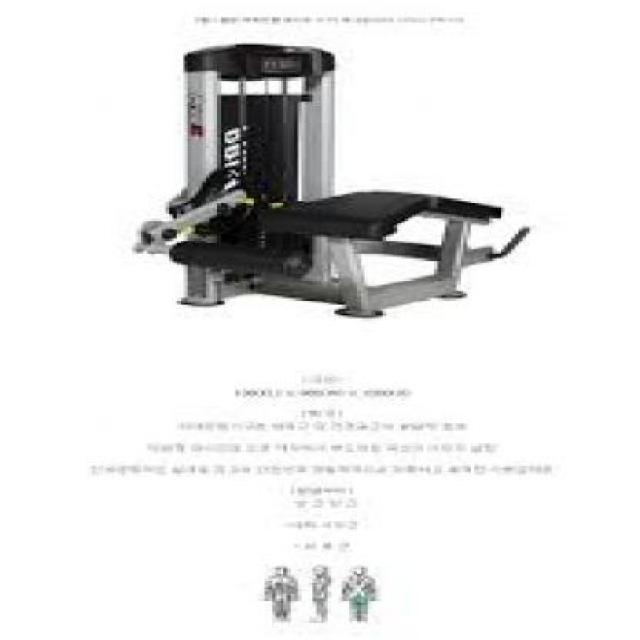reg curl machine: (114, 46, 543, 325)
